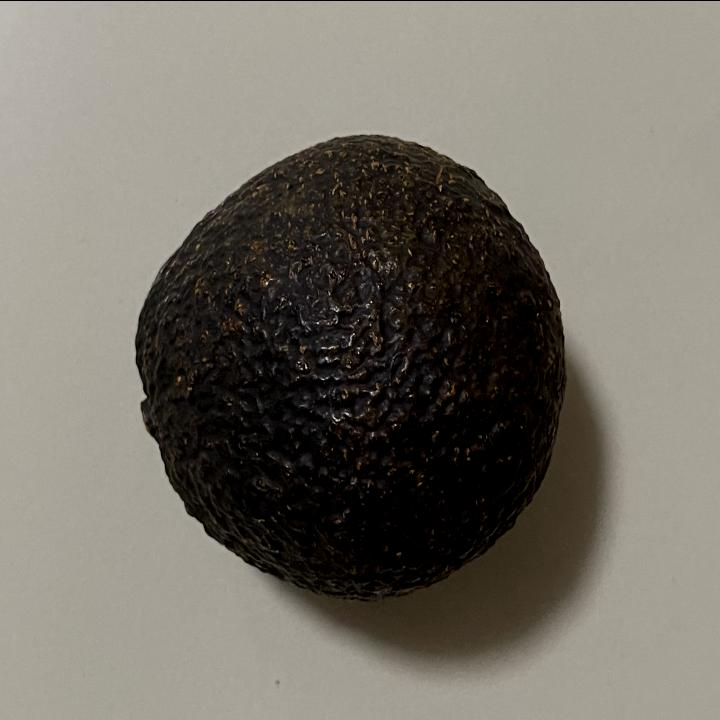Level3: (126, 124, 572, 608)
